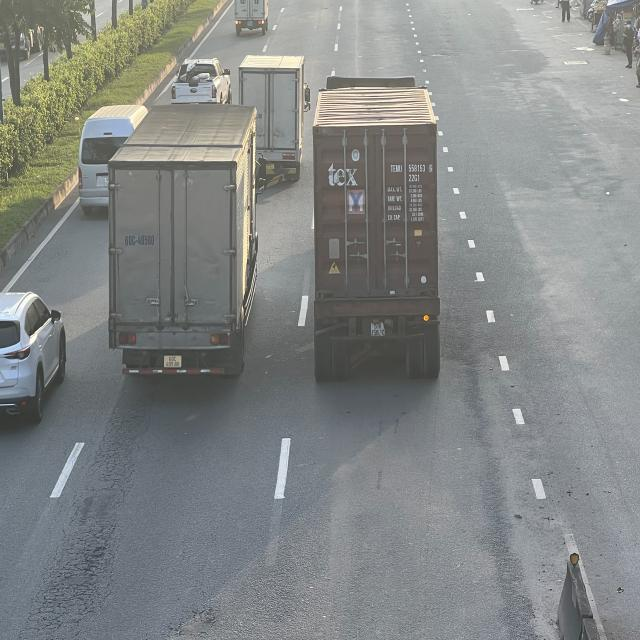car: (0, 290, 67, 427), (175, 59, 233, 108)
container: (314, 76, 442, 379)
truck: (107, 101, 260, 377), (240, 53, 310, 177), (234, 0, 269, 37)
van: (79, 102, 143, 218)
